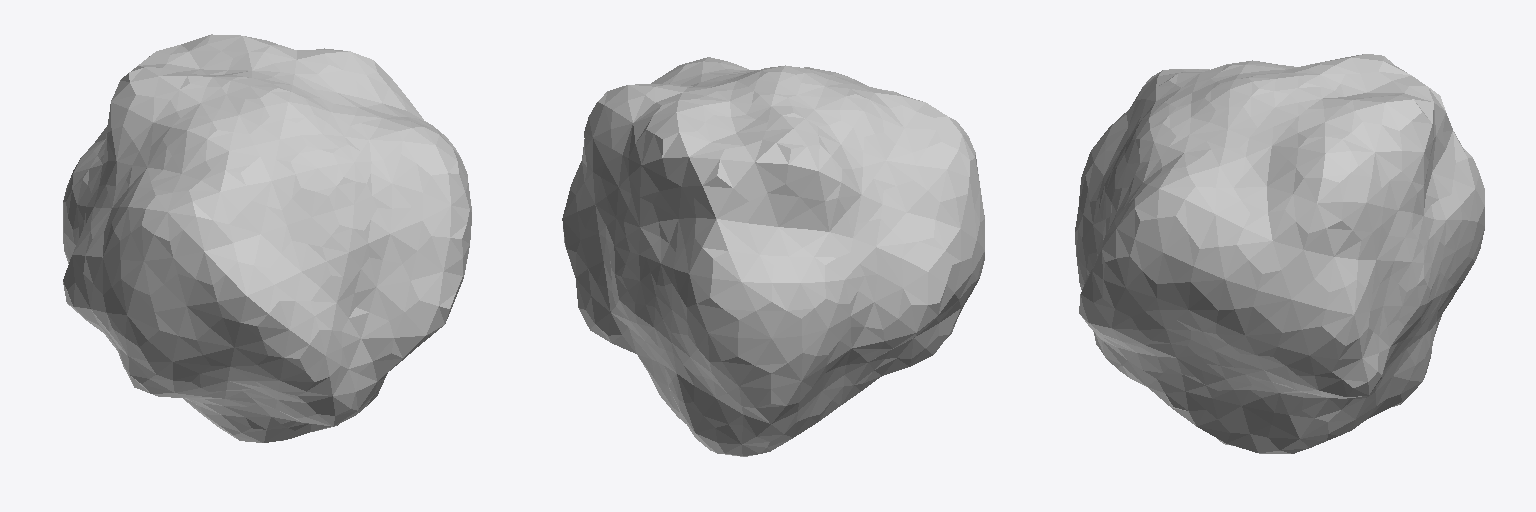
The model's file is asteroid5.obj.
3 renders of one model, left to right at view 1: azimuth 30°, elevation 25°; view 2: azimuth 150°, elevation 25°; view 3: azimuth 270°, elevation 25°, orthographic.
Visible parts, largest first — view 1: Asteroid5; view 2: Asteroid5; view 3: Asteroid5.
Boxes of the visible parts, x1=… form: Asteroid5: x1=63, y1=34, x2=471, y2=442; Asteroid5: x1=562, y1=57, x2=984, y2=456; Asteroid5: x1=1075, y1=54, x2=1484, y2=453.
Bounding box in the file's own units: 2.05 × 1.89 × 2.02.